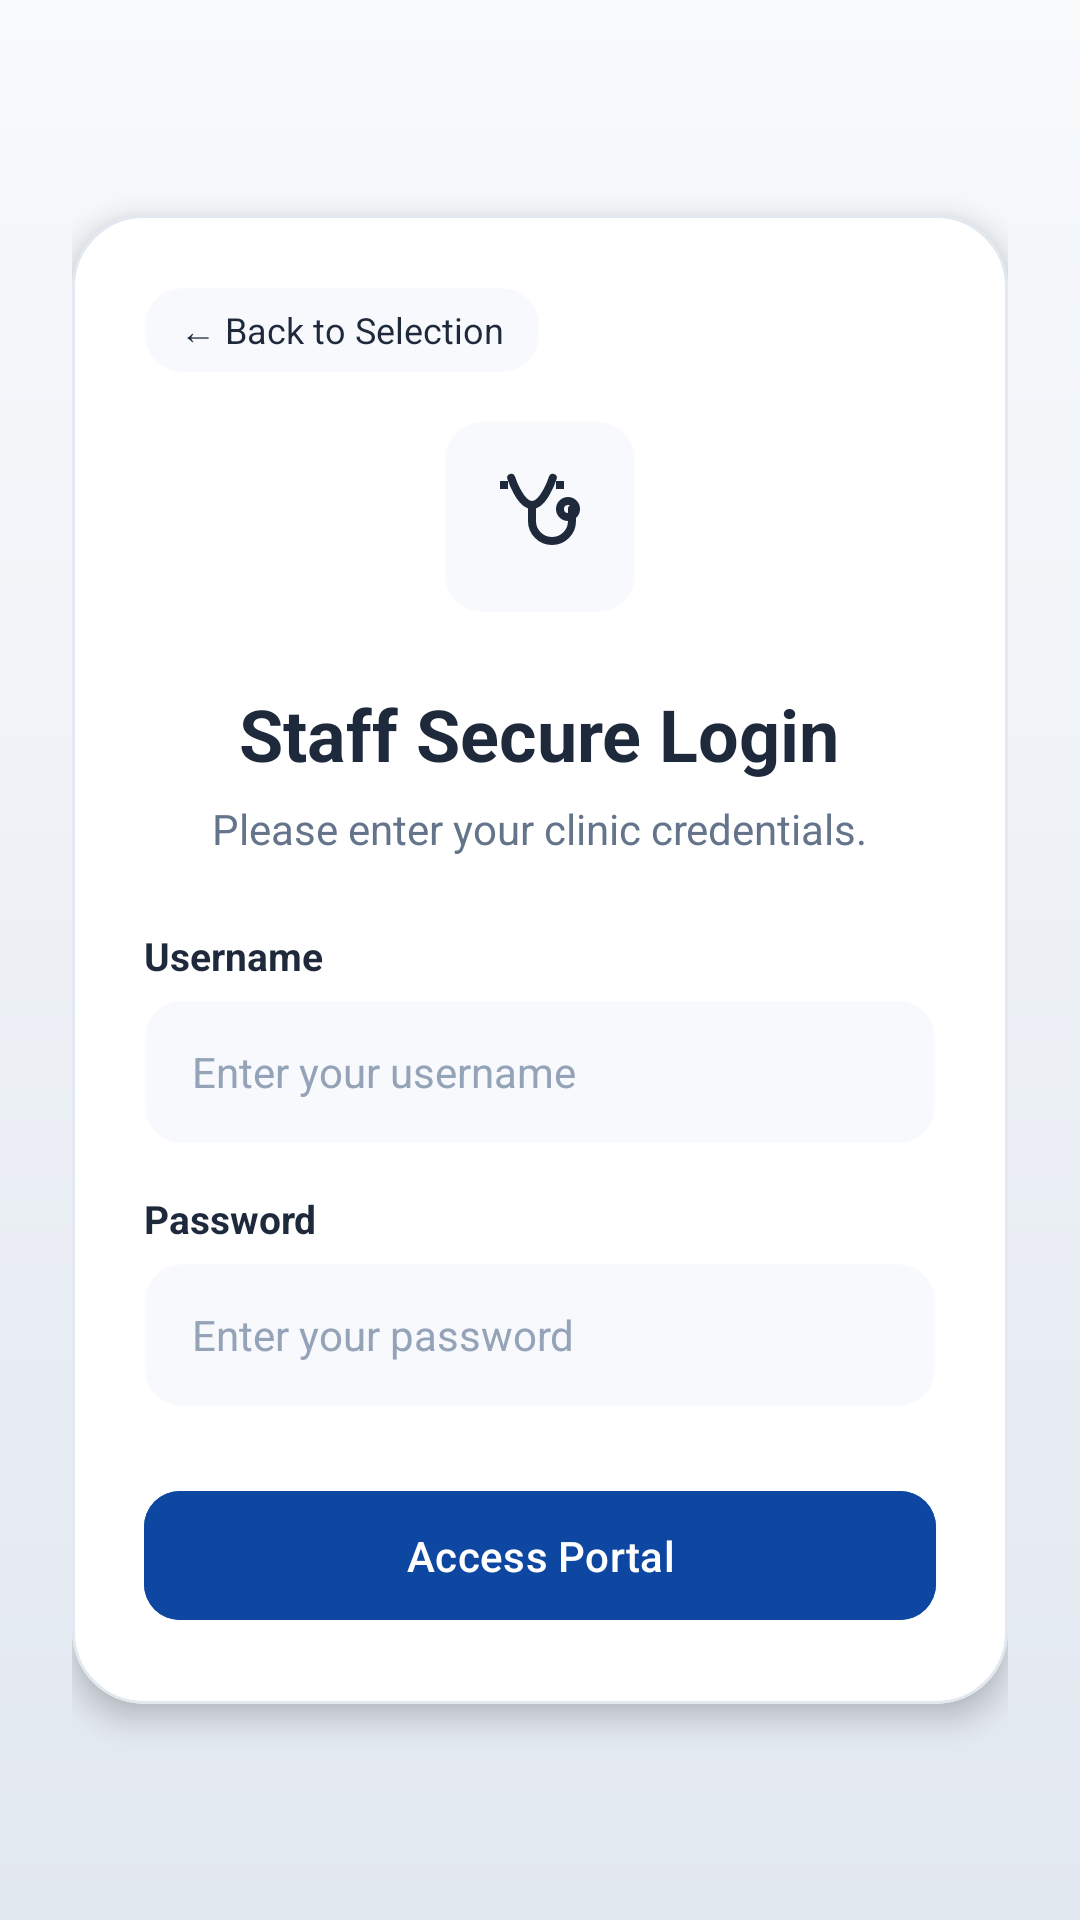

Point at icon controls on the screen. Image size 1080x1920, points as [x,y].
stethoscope: [540,509]
